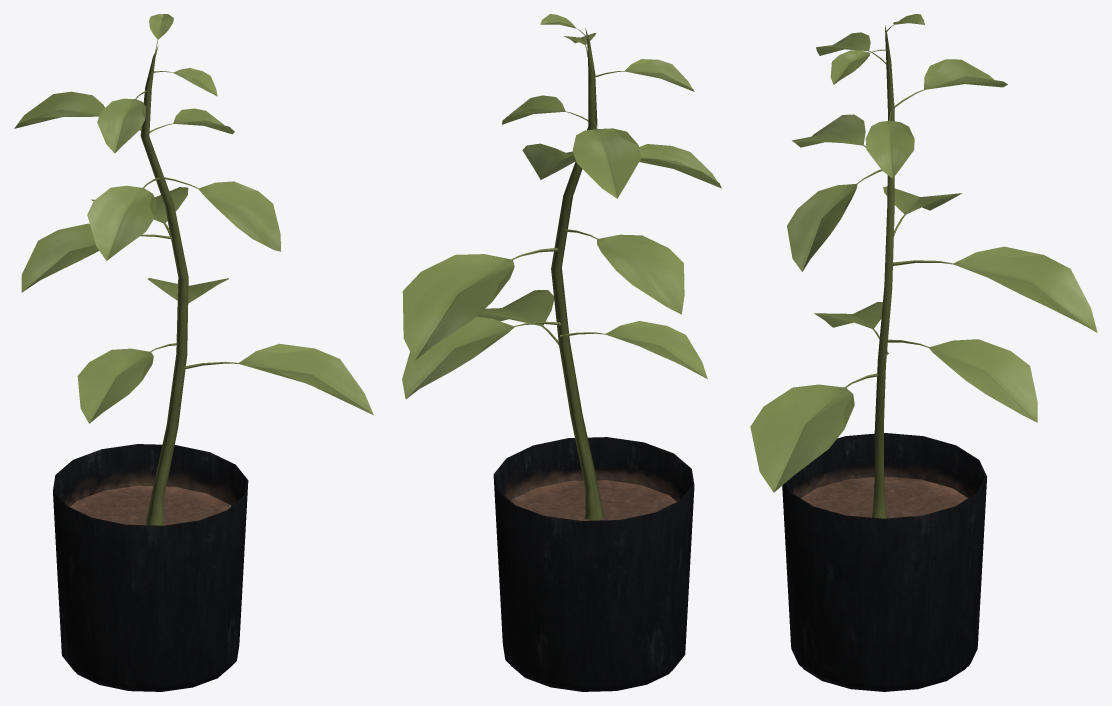
The model's file is Potted Plant.fbx.
The picture shows the model from 3 angles, left to right: view 1: azimuth 30°, elevation 25°; view 2: azimuth 150°, elevation 25°; view 3: azimuth 270°, elevation 25°; orthographic projection. The views are drawn at different scales.
Visible parts, largest first — view 1: Potted Plant; view 2: Potted Plant; view 3: Potted Plant.
Boxes of the visible parts, x1,y1,x2,y2 form: Potted Plant: [14, 14, 373, 691]; Potted Plant: [402, 14, 721, 691]; Potted Plant: [750, 14, 1097, 691].
Bounding box in the file's own units: 243 × 523 × 253.
